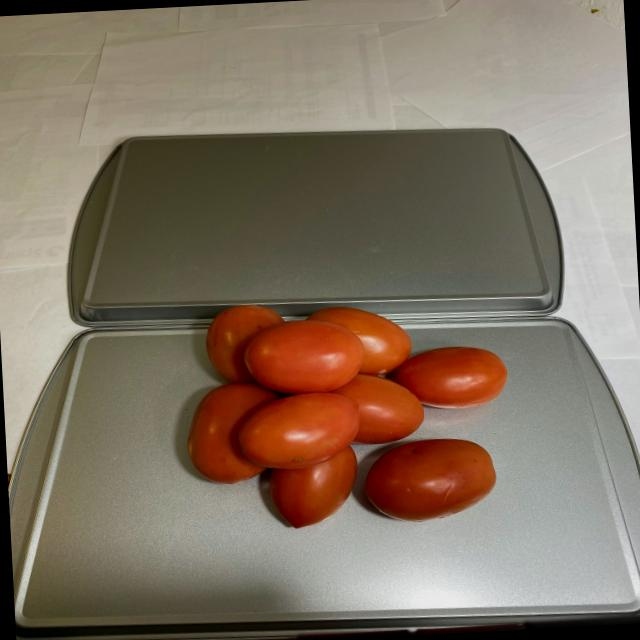tomato: (157, 292, 521, 538)
